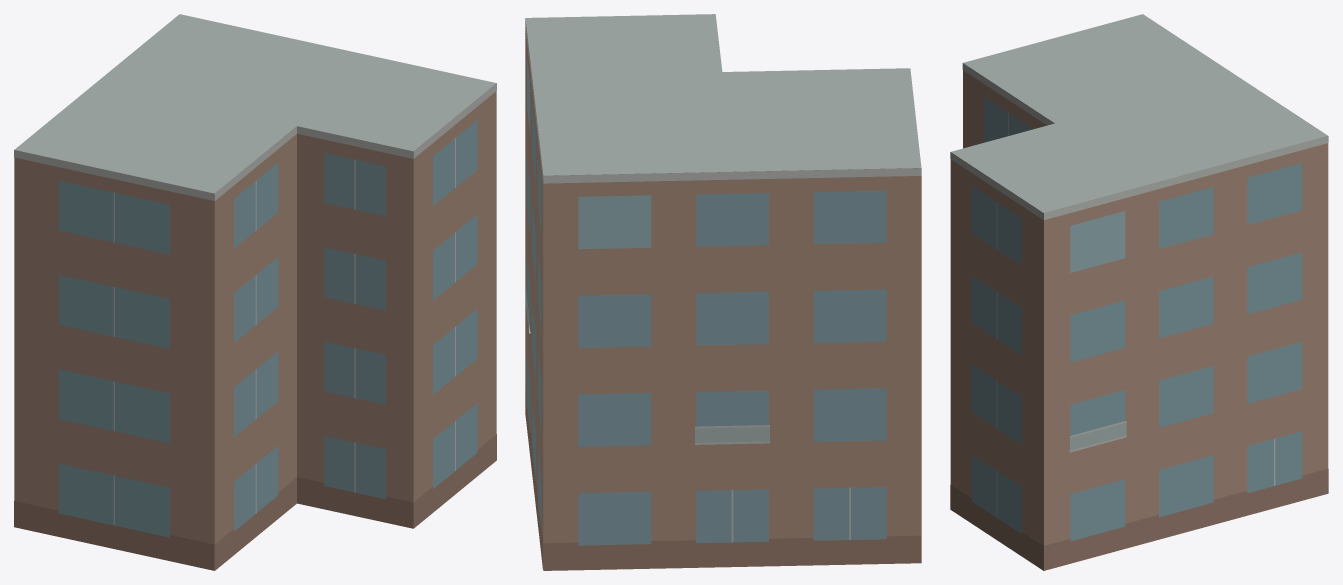
The model's file is residential-c686b1ad-6df3-40a0-84e7-c51bc6092856.glb.
3 renders of one model, left to right at view 1: azimuth 30°, elevation 25°; view 2: azimuth 150°, elevation 25°; view 3: azimuth 270°, elevation 25°, orthographic. The views are drawn at different scales.
Parts seen in each view (by area): view 1: residential-c686b1ad-6df3-40a0-84e7-c51bc6092856.tmp; view 2: residential-c686b1ad-6df3-40a0-84e7-c51bc6092856.tmp; view 3: residential-c686b1ad-6df3-40a0-84e7-c51bc6092856.tmp.
Part boxes in pixels (x1,y1,x2,y2): residential-c686b1ad-6df3-40a0-84e7-c51bc6092856.tmp: [14, 14, 496, 570]; residential-c686b1ad-6df3-40a0-84e7-c51bc6092856.tmp: [525, 14, 921, 570]; residential-c686b1ad-6df3-40a0-84e7-c51bc6092856.tmp: [950, 14, 1328, 570].
Size of the model in its own units: 14.57 by 12.2 by 11.69.
